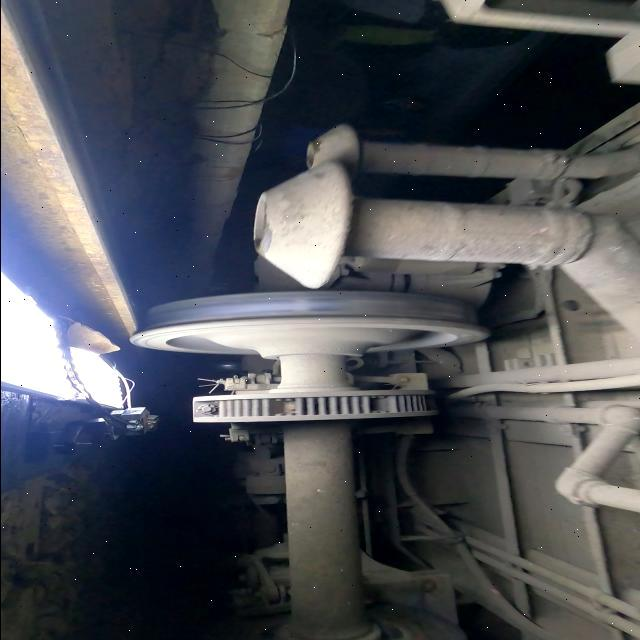Discoloration: (308, 296, 340, 313)
Shelling: (352, 299, 466, 319)
Wheel: (129, 291, 489, 359)
